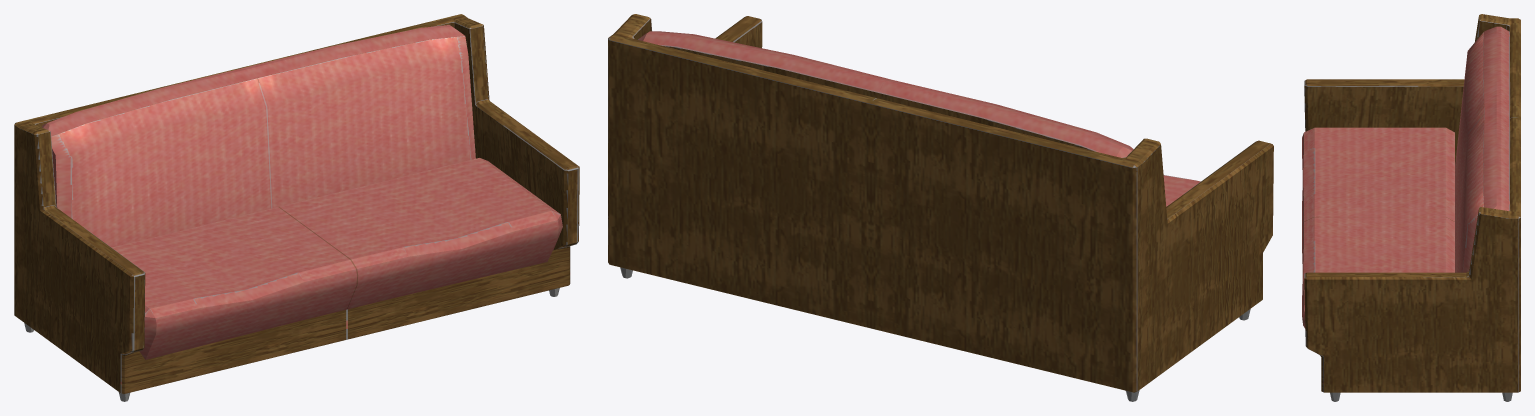
File: couch.glb
The picture shows the model from 3 angles, left to right: view 1: azimuth 30°, elevation 25°; view 2: azimuth 150°, elevation 25°; view 3: azimuth 270°, elevation 25°; orthographic projection. The views are drawn at different scales.
Visible parts, largest first — view 1: couchtop, couchbase; view 2: couchbase, couchtop; view 3: couchbase, couchtop.
Part boxes in pixels (left/top/right/bottom): couchtop: left=42, top=25, right=562, bottom=359; couchbase: left=14, top=14, right=579, bottom=401; couchbase: left=608, top=14, right=1273, bottom=401; couchtop: left=638, top=31, right=1200, bottom=206; couchbase: left=1304, top=14, right=1520, bottom=401; couchtop: left=1302, top=26, right=1509, bottom=328.
Bounding box in the file's own units: 2.79 × 1.28 × 1.29.
Materials: 1 (1 with a texture image).
